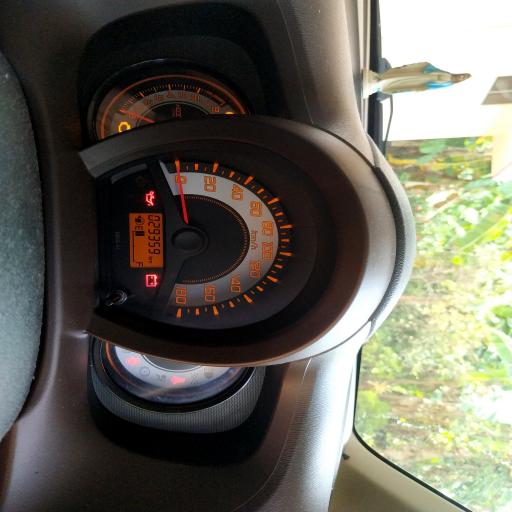check_engine: (118, 122, 130, 132)
oil: (146, 190, 156, 206)
tachometer: (102, 74, 248, 142)
vehicle_charging: (146, 273, 158, 287)
